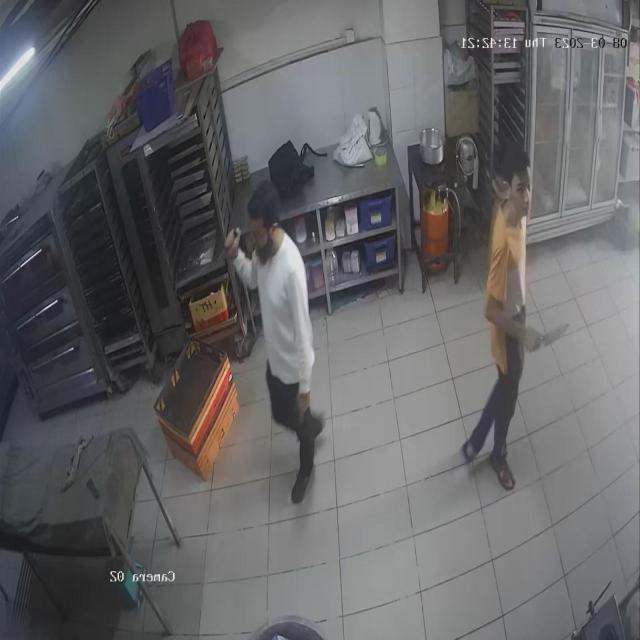Knife: (526, 308, 573, 354)
